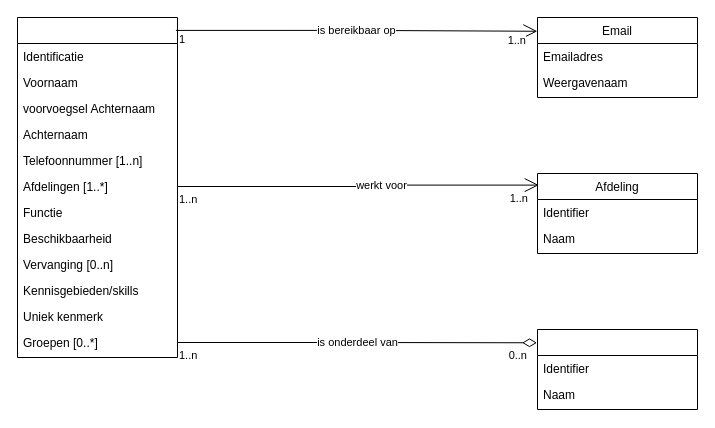
Image size: 715x428. Some labels were removed from this diagram. The box of each missing label's shape, as (x1, y1, x2, y2) in pixels:
Groep: (536, 328, 698, 410)
Medewerker: (16, 16, 178, 358)
